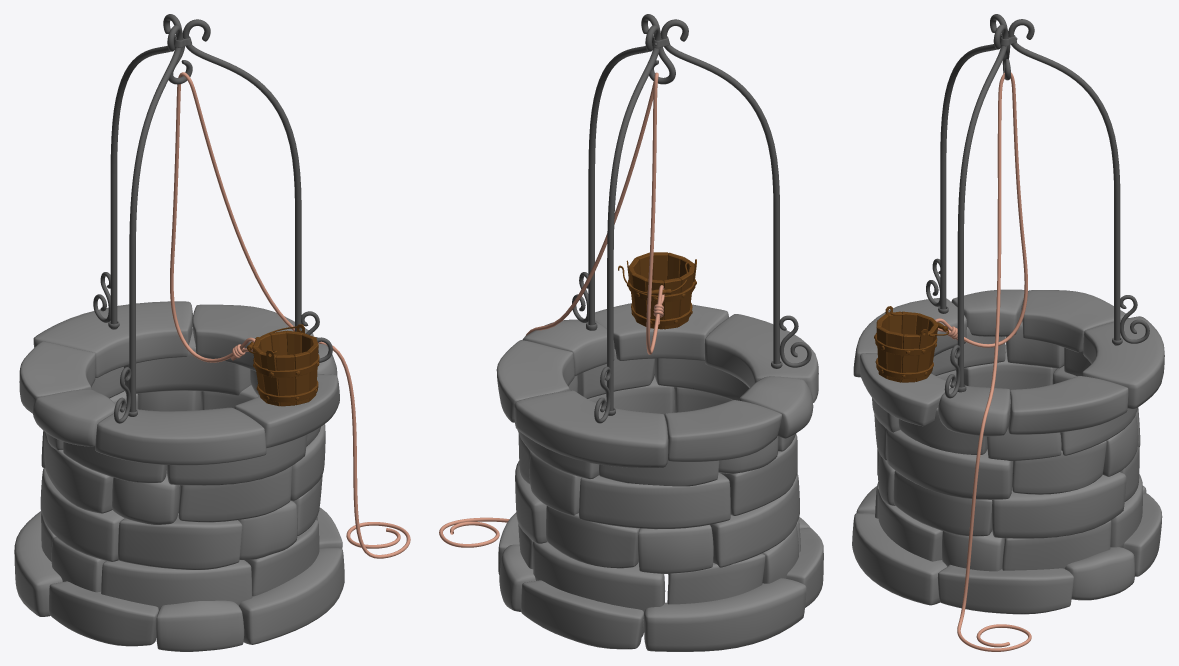
The model's file is well.fbx.
3 renders of one model, left to right at view 1: azimuth 30°, elevation 25°; view 2: azimuth 150°, elevation 25°; view 3: azimuth 270°, elevation 25°, orthographic. The views are drawn at different scales.
Parts seen in each view (by area): view 1: puit, BezierCurve.005, seau; view 2: puit, seau, BezierCurve.005; view 3: puit, BezierCurve.005, seau.
Part boxes in pixels (x1,y1,x2,y2): puit: [14, 14, 344, 651]; BezierCurve.005: [170, 72, 410, 558]; seau: [252, 324, 319, 406]; puit: [496, 14, 823, 651]; seau: [626, 252, 696, 329]; BezierCurve.005: [439, 72, 664, 547]; puit: [852, 14, 1164, 614]; BezierCurve.005: [935, 72, 1031, 651]; seau: [874, 306, 938, 382].
Bounding box in the file's own units: 107 × 159 × 84.09.
